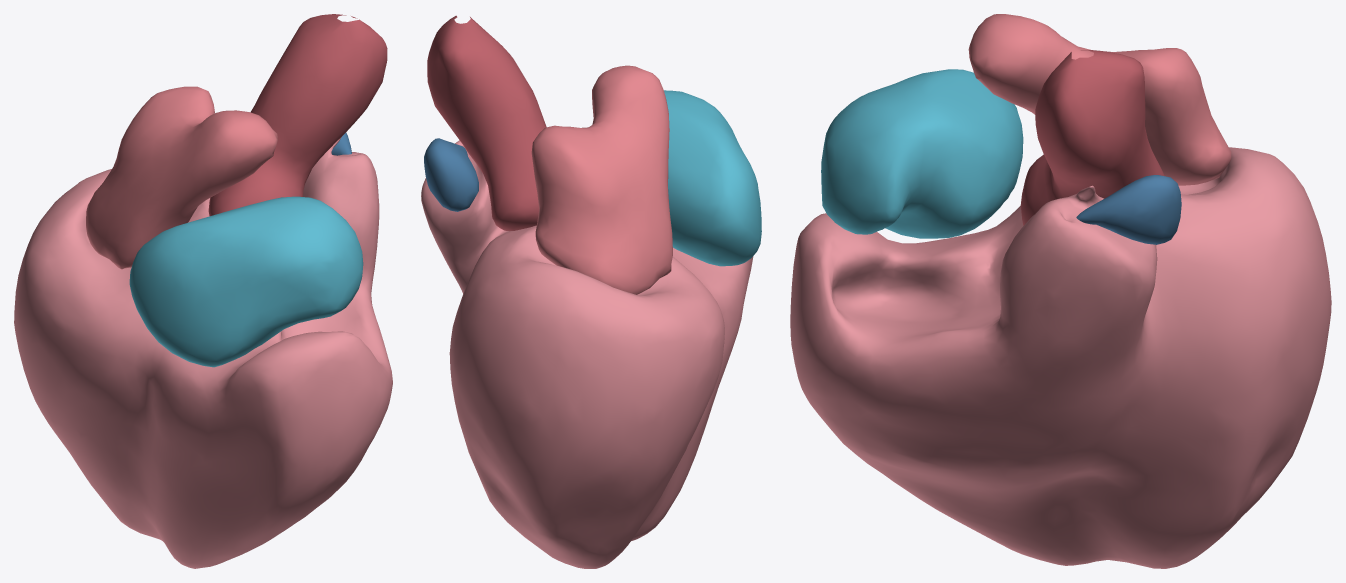
The model's file is frame_21.glb.
3 views of the same model, side by side, from view 1: azimuth 30°, elevation 25°; view 2: azimuth 150°, elevation 25°; view 3: azimuth 270°, elevation 25° (orthographic). The views are drawn at different scales.
Visible parts, largest first — view 1: Renderer Node; view 2: Renderer Node; view 3: Renderer Node.
Boxes of the visible parts, x1,y1,x2,y2 form: Renderer Node: (14, 14, 392, 568); Renderer Node: (421, 15, 761, 568); Renderer Node: (790, 14, 1331, 568).
Size of the model in its own units: 107 by 163 by 132.
